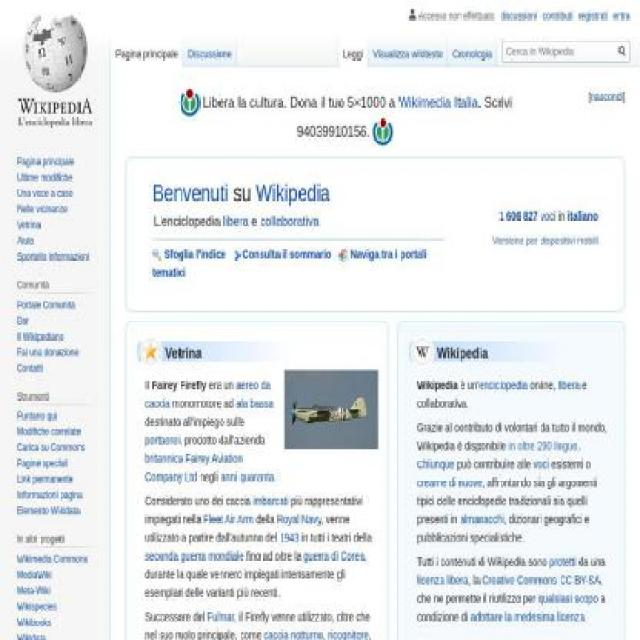button: (367, 33, 448, 67), (111, 33, 183, 67), (182, 33, 238, 67), (447, 33, 498, 67), (338, 33, 368, 67), (591, 91, 623, 103)
field: (502, 40, 630, 63), (614, 41, 629, 62)
